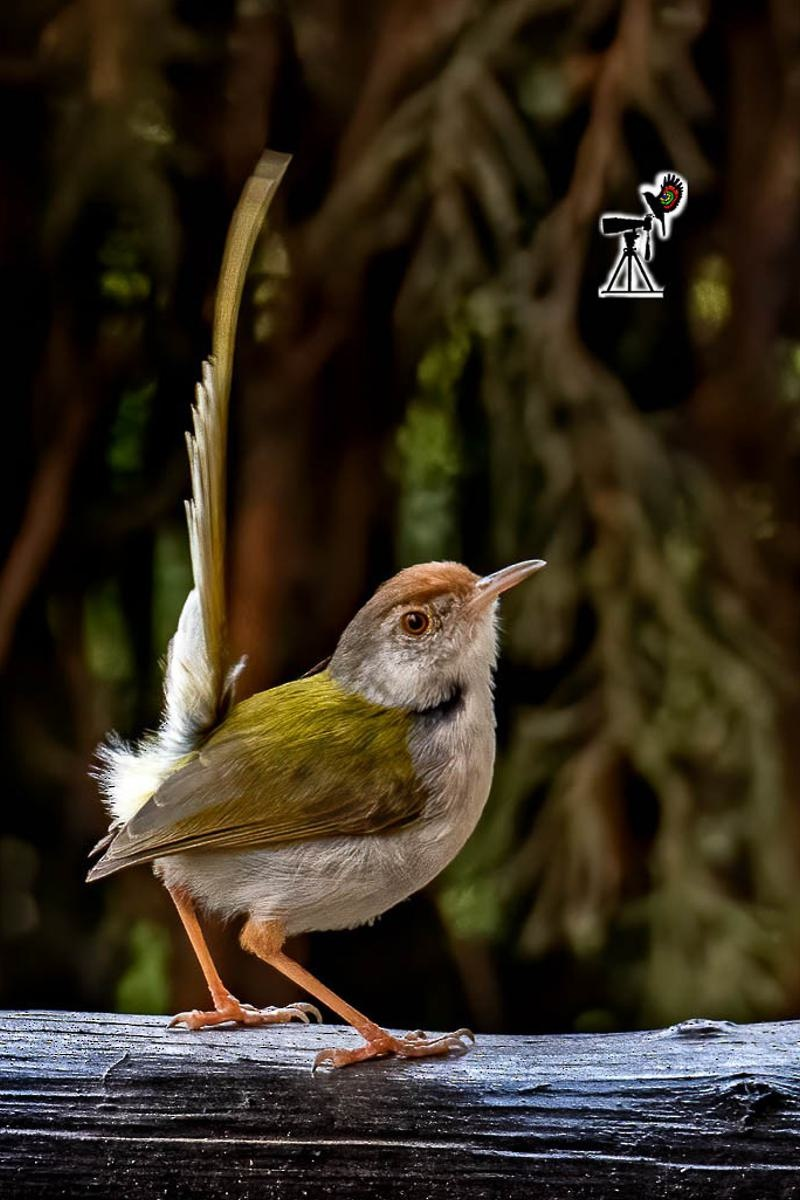tailorbird: (93, 137, 554, 1075)
